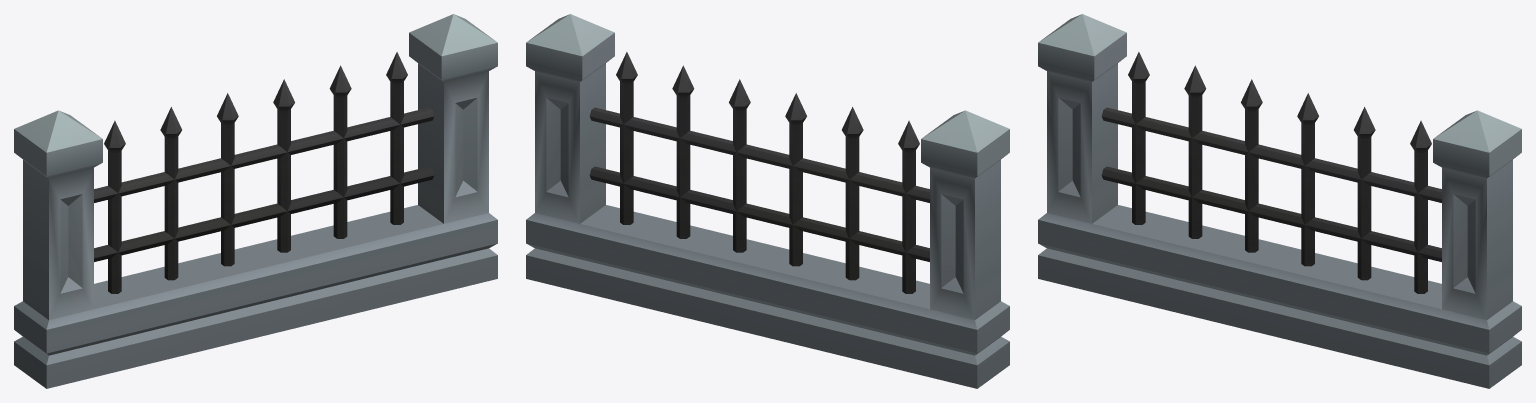
The model's file is h_fence.glb.
The picture shows the model from 3 angles, left to right: view 1: azimuth 30°, elevation 25°; view 2: azimuth 150°, elevation 25°; view 3: azimuth 330°, elevation 25°; orthographic projection.
Visible parts, largest first — view 1: fence; view 2: fence; view 3: fence.
Boxes of the visible parts, <box> form: fence: <box>14,14,497,388</box>; fence: <box>526,14,1009,388</box>; fence: <box>1038,14,1521,388</box>.
Size of the model in its own units: 4 by 2.2 by 0.5.
1 material, 1 textured.
